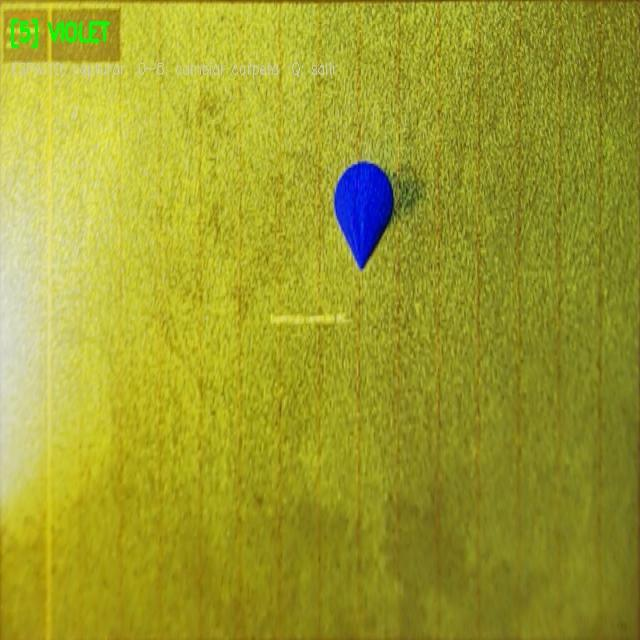violet: (335, 161, 391, 269)
